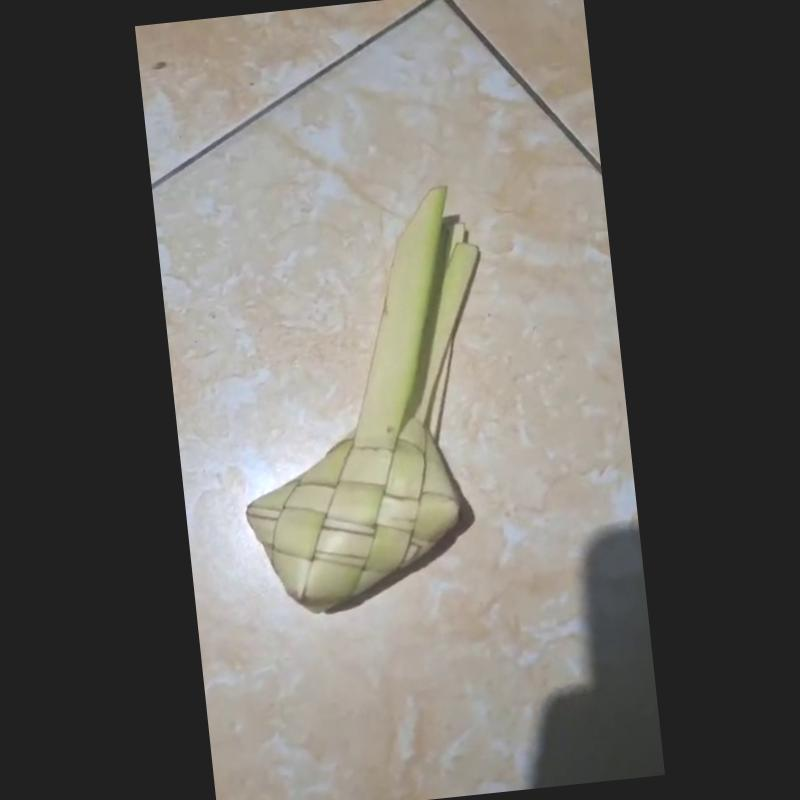Tipat Bantal: (249, 173, 481, 619)
